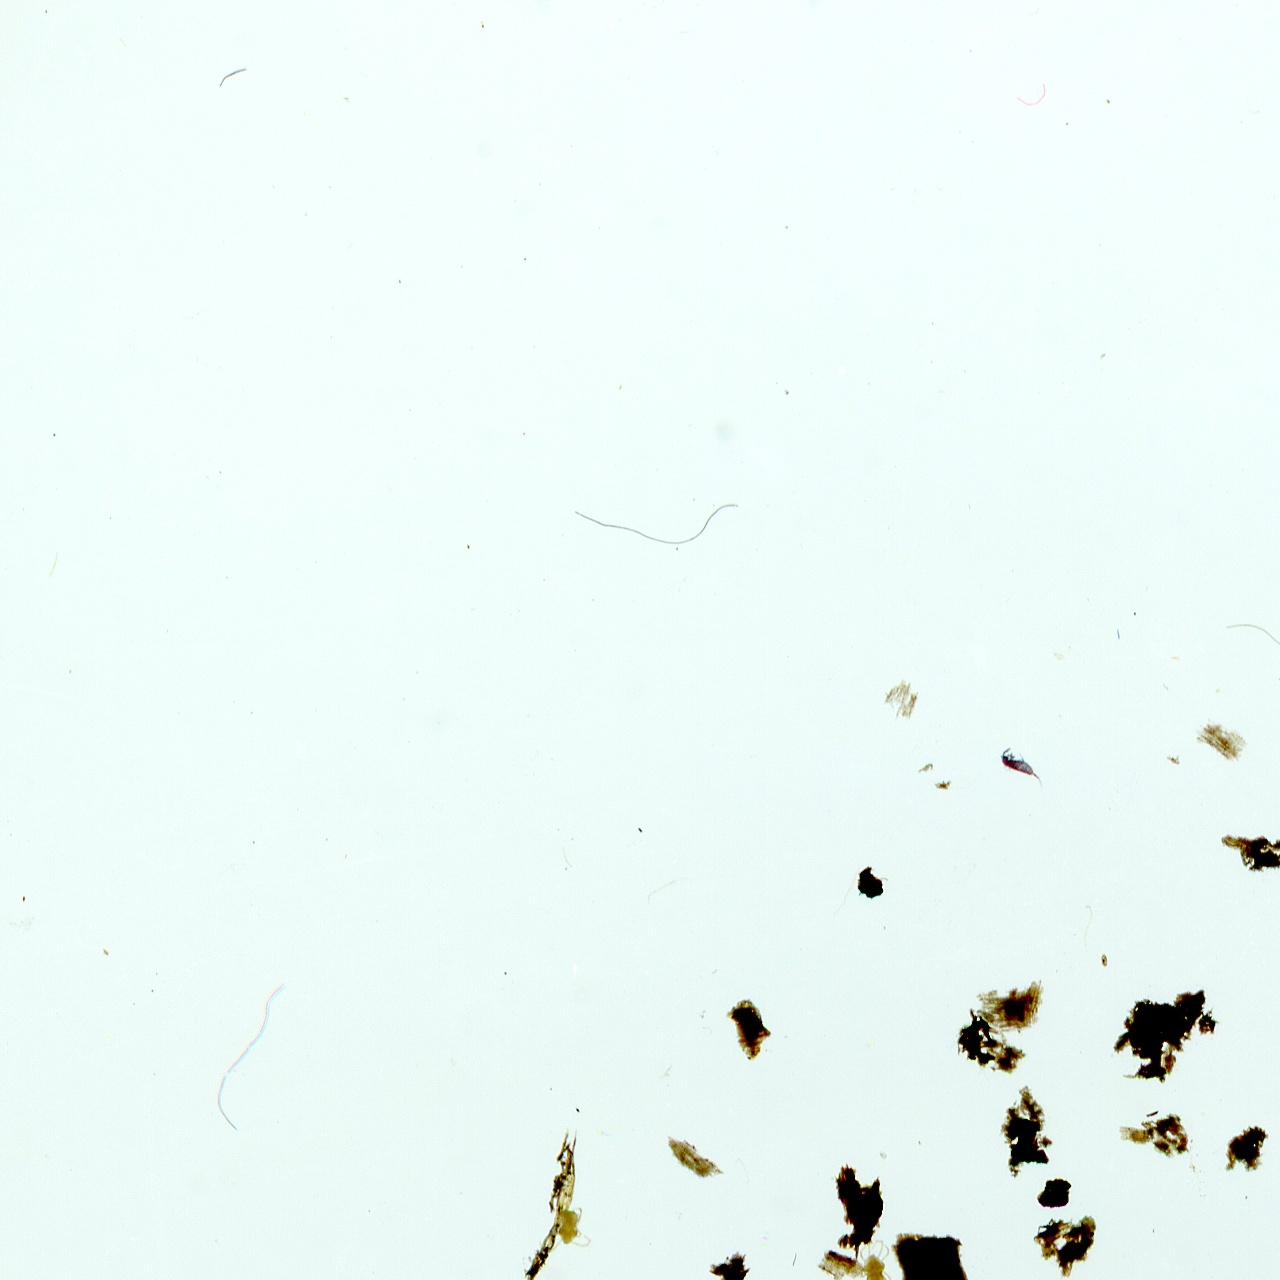arthropod: (545, 1201, 594, 1259), (998, 745, 1046, 791), (852, 1234, 894, 1280)
